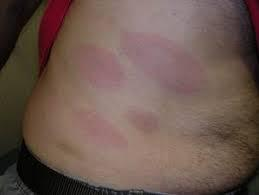Tick: (113, 23, 211, 98), (68, 104, 134, 161), (77, 45, 122, 87), (117, 101, 161, 135)
